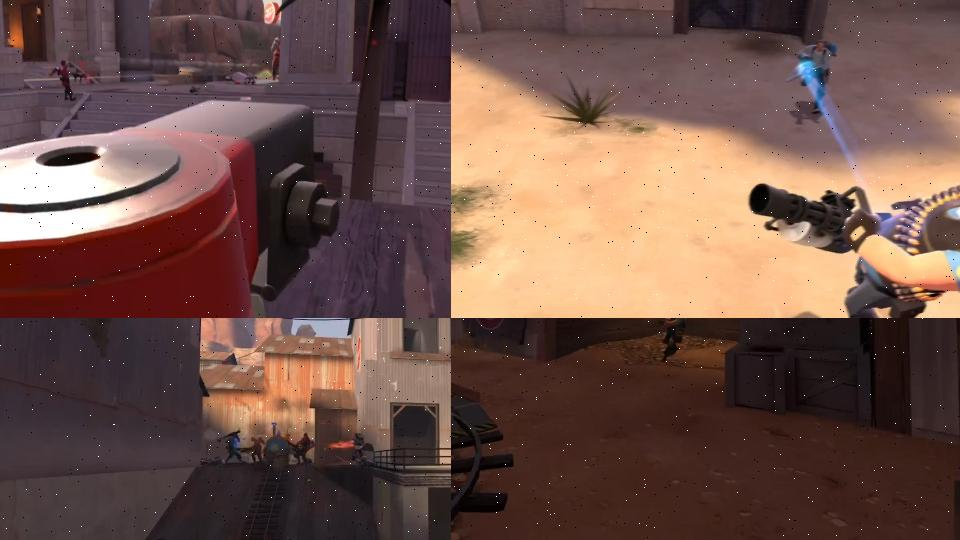Enemy: (747, 181, 960, 318), (784, 39, 838, 115), (47, 59, 84, 109), (655, 318, 688, 364), (214, 429, 244, 467), (286, 431, 316, 467), (235, 436, 266, 464), (349, 433, 375, 463), (270, 36, 282, 79), (228, 68, 258, 85), (242, 534, 291, 540)
